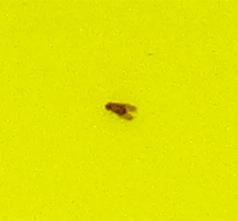Brachycera: (100, 100, 138, 121)
